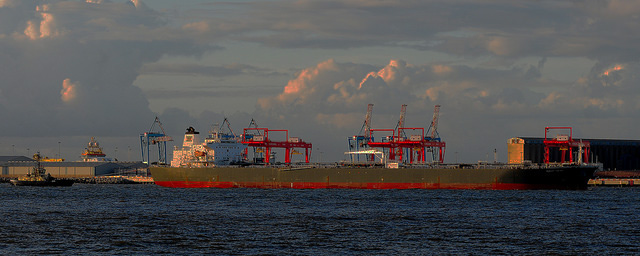tanker: (148, 130, 599, 192)
tug_boat: (8, 153, 79, 184)
